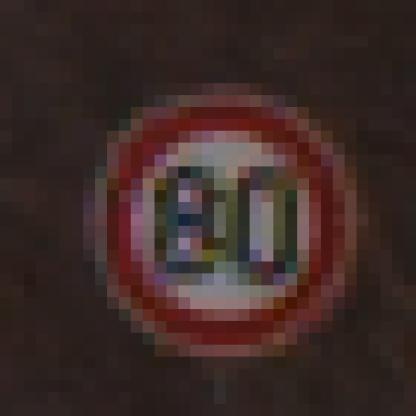Speed Limit 80: (102, 89, 350, 357)
